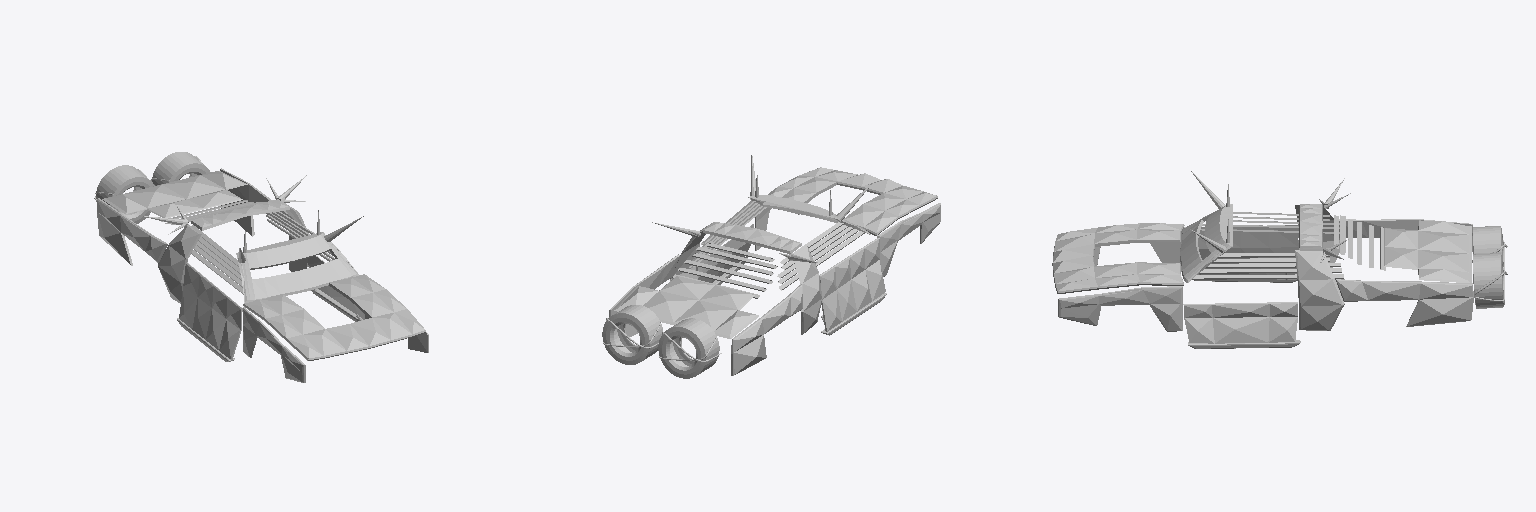
File: Just Armor Charger v02.obj
3 views of the same model, side by side, from view 1: azimuth 30°, elevation 25°; view 2: azimuth 150°, elevation 25°; view 3: azimuth 270°, elevation 25° (orthographic).
Visible parts, largest first — view 1: Armor Body Charger Panel_1_Geo, Armor Body Charger Panel_4_Geo, Armor Body Charger Windshield, Armor Body Charger Panel_6_Geo, Armor Body Charger Panel_7_Geo, Armor Body Charger Tire_Bumper_2 Spare_Tire01_Geo, Armor Body Charger Panel_5_Geo, Armor Body Charger Tire_Bumper Spare_Tire02_Geo, Armor Body Charger Panel_2_Geo, Armor Body Charger Panel_3_Geo, Platforms Armor Body Charger; view 2: Armor Body Charger Panel_4_Geo, Armor Body Charger Panel_7_Geo, Armor Body Charger Panel_1_Geo, Armor Body Charger Panel_6_Geo, Armor Body Charger Tire_Bumper_2 Spare_Tire01_Geo, Armor Body Charger Tire_Bumper Spare_Tire02_Geo, Armor Body Charger Panel_5_Geo, Armor Body Charger Panel_2_Geo, Armor Body Charger Windshield, Armor Body Charger Panel_3_Geo; view 3: Armor Body Charger Panel_3_Geo, Armor Body Charger Panel_5_Geo, Armor Body Charger Panel_1_Geo, Armor Body Charger Panel_7_Geo, Armor Body Charger Panel_4_Geo, Armor Body Charger Windshield, Armor Body Charger Tire_Bumper Spare_Tire02_Geo, Armor Body Charger Panel_6_Geo, Armor Body Charger Panel_2_Geo, Platforms Armor Body Charger, Armor Body Charger Tire_Bumper_2 Spare_Tire01_Geo.
Boxes of the visible parts, box(x1,y1,x2,y2) form: Armor Body Charger Panel_1_Geo: box(243, 274, 425, 360); Armor Body Charger Panel_4_Geo: box(179, 262, 305, 382); Armor Body Charger Windshield: box(236, 232, 358, 302); Armor Body Charger Panel_6_Geo: box(97, 198, 201, 303); Armor Body Charger Panel_7_Geo: box(102, 171, 247, 217); Armor Body Charger Tire_Bumper_2 Spare_Tire01_Geo: box(96, 165, 154, 223); Armor Body Charger Panel_5_Geo: box(220, 168, 307, 271); Armor Body Charger Tire_Bumper Spare_Tire02_Geo: box(152, 152, 210, 185); Armor Body Charger Panel_2_Geo: box(191, 199, 289, 230); Armor Body Charger Panel_3_Geo: box(308, 256, 428, 352); Platforms Armor Body Charger: box(177, 289, 362, 361); Armor Body Charger Panel_4_Geo: box(819, 203, 940, 331); Armor Body Charger Panel_7_Geo: box(614, 276, 758, 338); Armor Body Charger Panel_1_Geo: box(768, 167, 937, 235); Armor Body Charger Panel_6_Geo: box(731, 245, 821, 375); Armor Body Charger Tire_Bumper_2 Spare_Tire01_Geo: box(658, 318, 719, 378); Armor Body Charger Tire_Bumper Spare_Tire02_Geo: box(602, 305, 662, 364); Armor Body Charger Panel_5_Geo: box(609, 223, 711, 336); Armor Body Charger Panel_2_Geo: box(703, 222, 801, 253); Armor Body Charger Windshield: box(748, 195, 870, 234); Armor Body Charger Panel_3_Geo: box(696, 201, 809, 282); Armor Body Charger Panel_3_Geo: box(1058, 286, 1297, 343); Armor Body Charger Panel_5_Geo: box(1295, 250, 1473, 330); Armor Body Charger Panel_1_Geo: box(1052, 223, 1184, 293); Armor Body Charger Panel_7_Geo: box(1384, 220, 1471, 282); Armor Body Charger Panel_4_Geo: box(1094, 225, 1298, 274); Armor Body Charger Windshield: box(1180, 204, 1232, 282); Armor Body Charger Tire_Bumper Spare_Tire02_Geo: box(1472, 253, 1504, 308); Armor Body Charger Panel_6_Geo: box(1295, 205, 1472, 267); Armor Body Charger Panel_2_Geo: box(1299, 204, 1322, 248); Platforms Armor Body Charger: box(1188, 273, 1300, 348); Armor Body Charger Tire_Bumper_2 Spare_Tire01_Geo: box(1472, 226, 1503, 266).
Size of the model in its own units: 18.24 by 12.01 by 42.49.